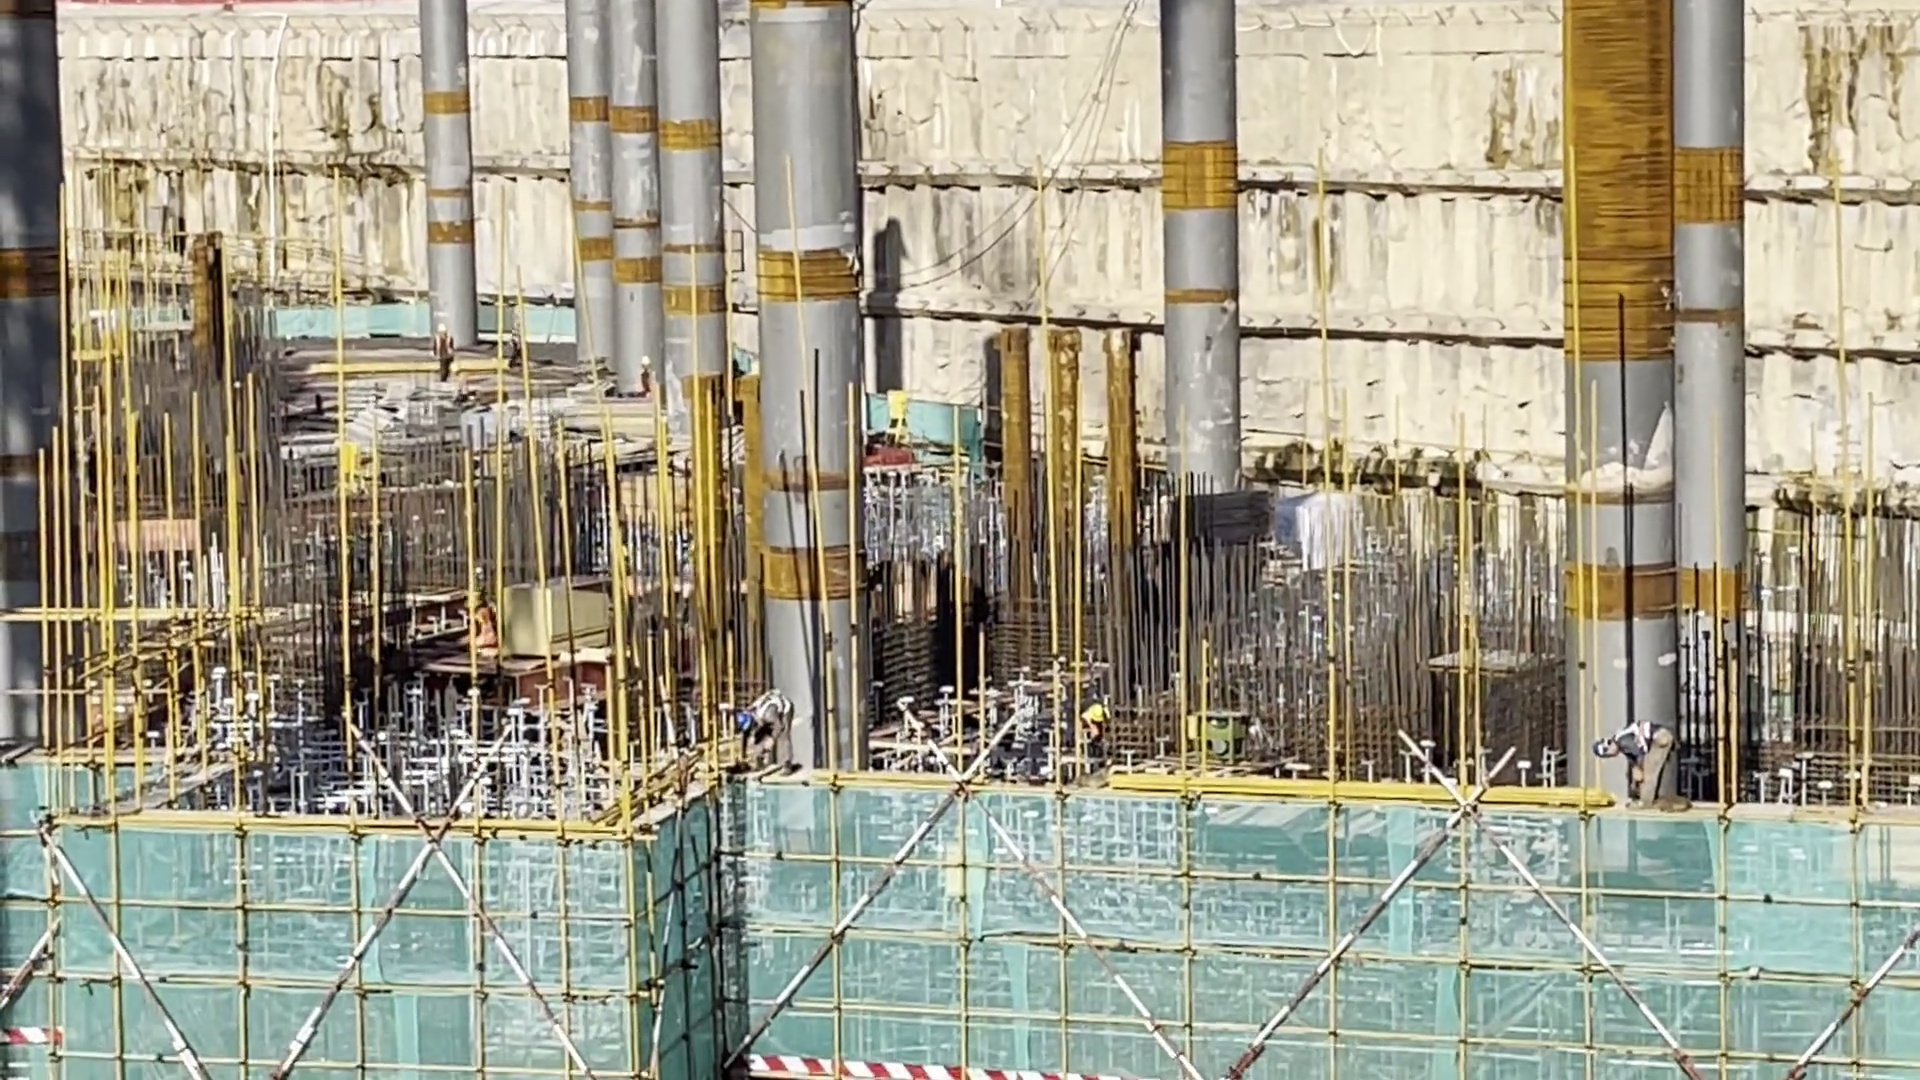helmet: (736, 706, 756, 736), (1088, 709, 1113, 729), (1603, 739, 1621, 764), (438, 324, 450, 340), (641, 357, 654, 371), (467, 592, 483, 603)
person: (1599, 721, 1684, 795), (734, 678, 799, 773), (459, 581, 498, 655), (1071, 695, 1103, 770), (428, 322, 459, 383), (632, 351, 660, 400), (504, 319, 527, 366)
vest: (751, 676, 798, 732), (1626, 722, 1651, 762), (475, 606, 497, 645), (1073, 727, 1096, 754), (643, 372, 659, 393), (509, 329, 525, 349), (434, 341, 456, 356)
